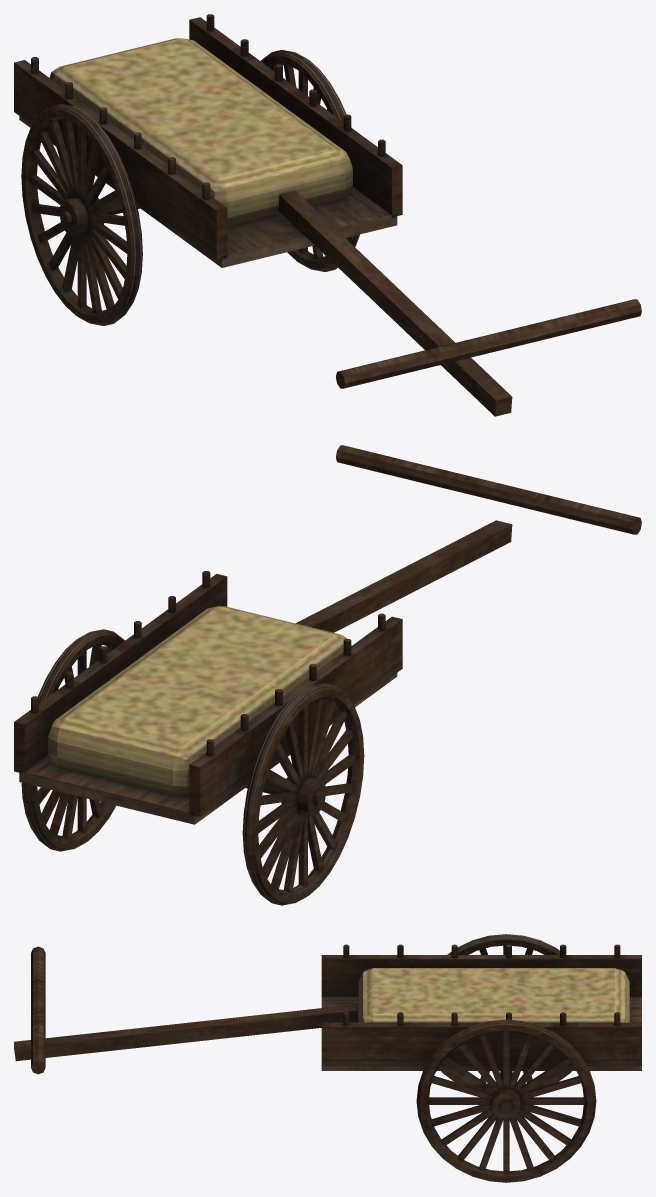
The model's file is bullockcart.glb.
The picture shows the model from 3 angles, top to bottom: view 1: azimuth 30°, elevation 25°; view 2: azimuth 150°, elevation 25°; view 3: azimuth 270°, elevation 25°; orthographic projection. The views are drawn at different scales.
Parts seen in each view (by area): view 1: bullockcart; view 2: bullockcart; view 3: bullockcart.
Boxes of the visible parts, <box> form: bullockcart: <box>14,14,641,416</box>; bullockcart: <box>14,445,641,905</box>; bullockcart: <box>14,934,641,1182</box>.
Size of the model in its own units: 2.2 by 1.46 by 5.1.
1 material, 1 textured.
